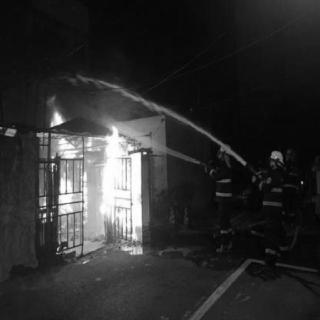other: (256, 169, 286, 209), (213, 176, 234, 188)
